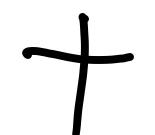plus: (22, 13, 134, 135)
